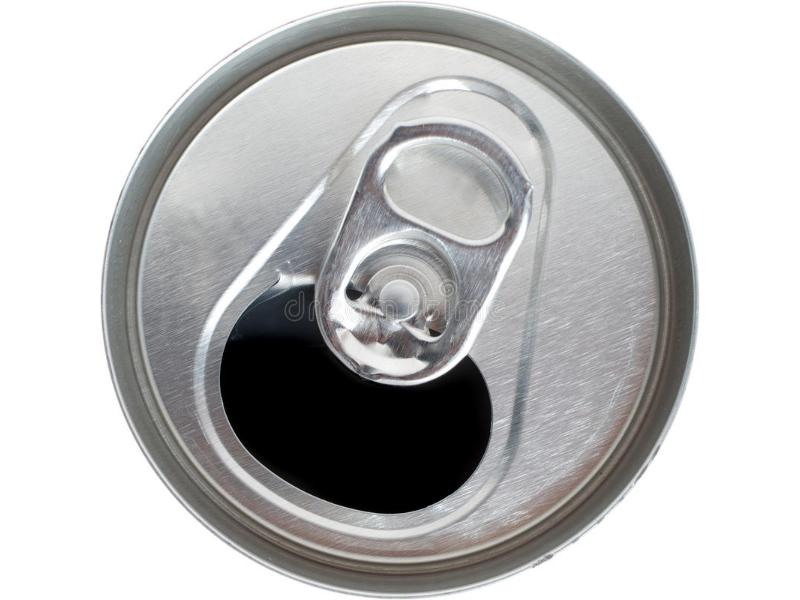can: (95, 0, 703, 600)
